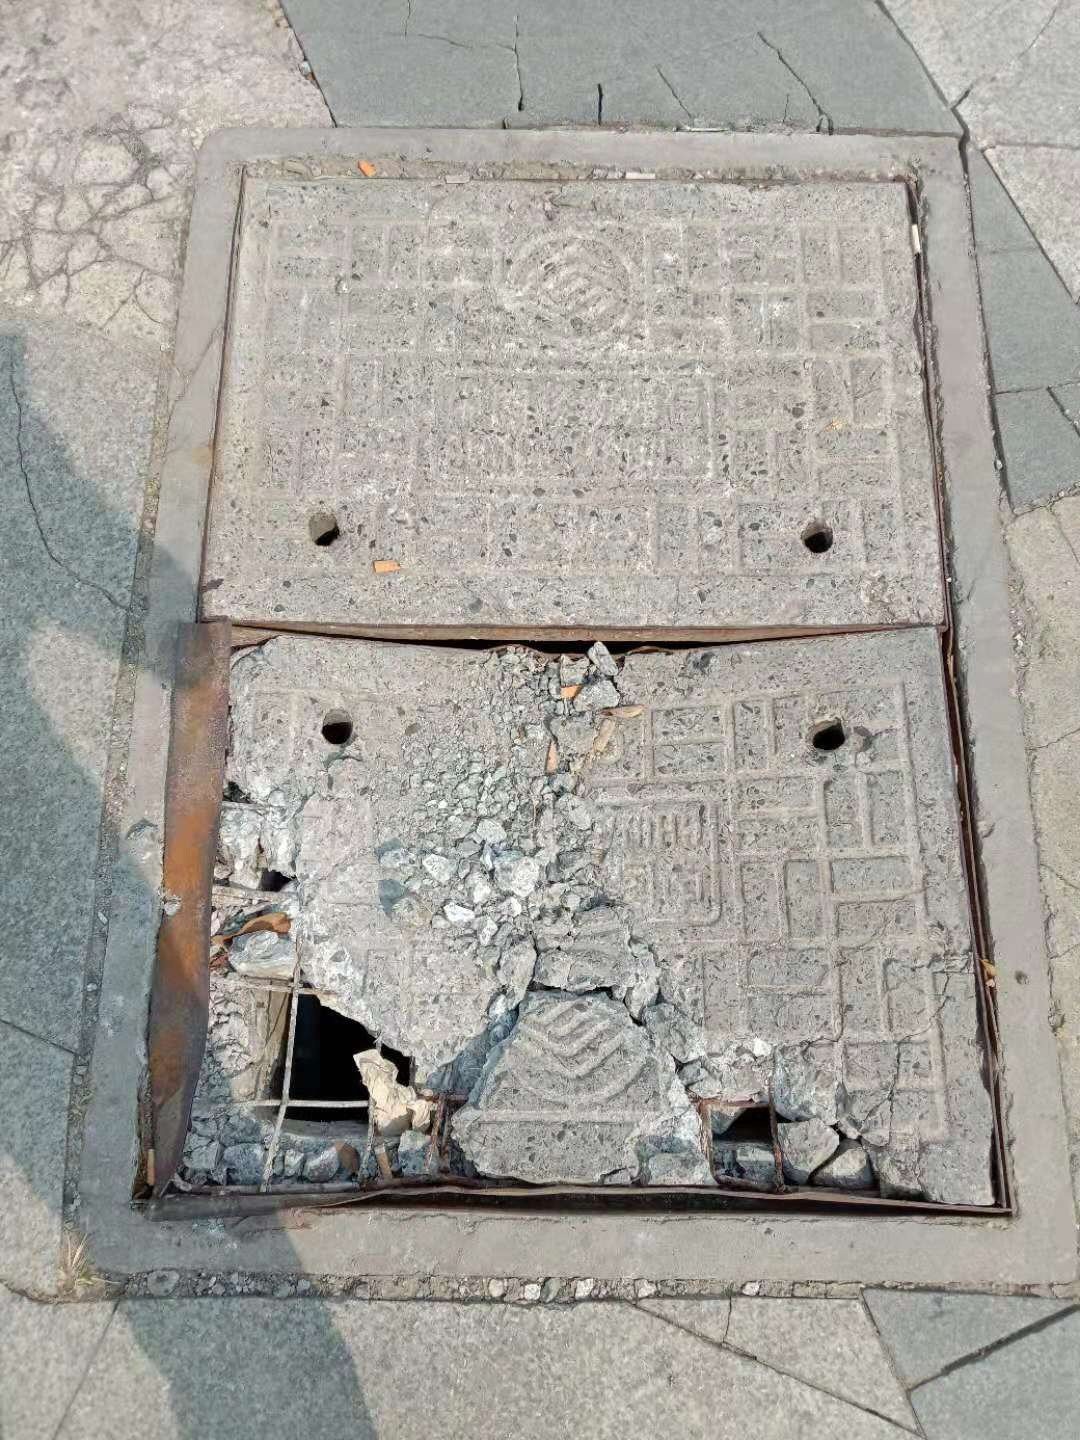broke: (71, 122, 1080, 1279)
